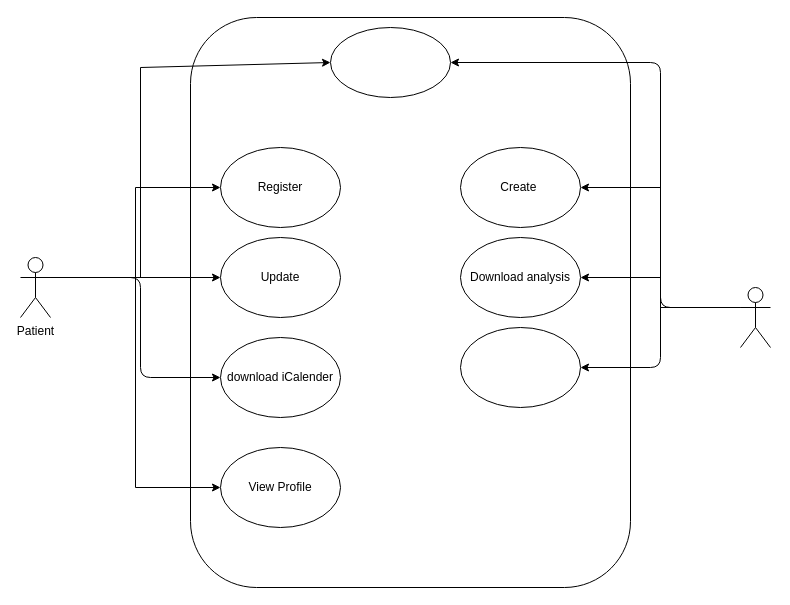
Some shapes in this 790 by 605 pixel diagram are drawn without their labels. Each missing label, with the box of its shape:
Admin: (740, 286, 770, 348)
Download Patient Files: (460, 326, 580, 408)
Login: (330, 26, 450, 98)
